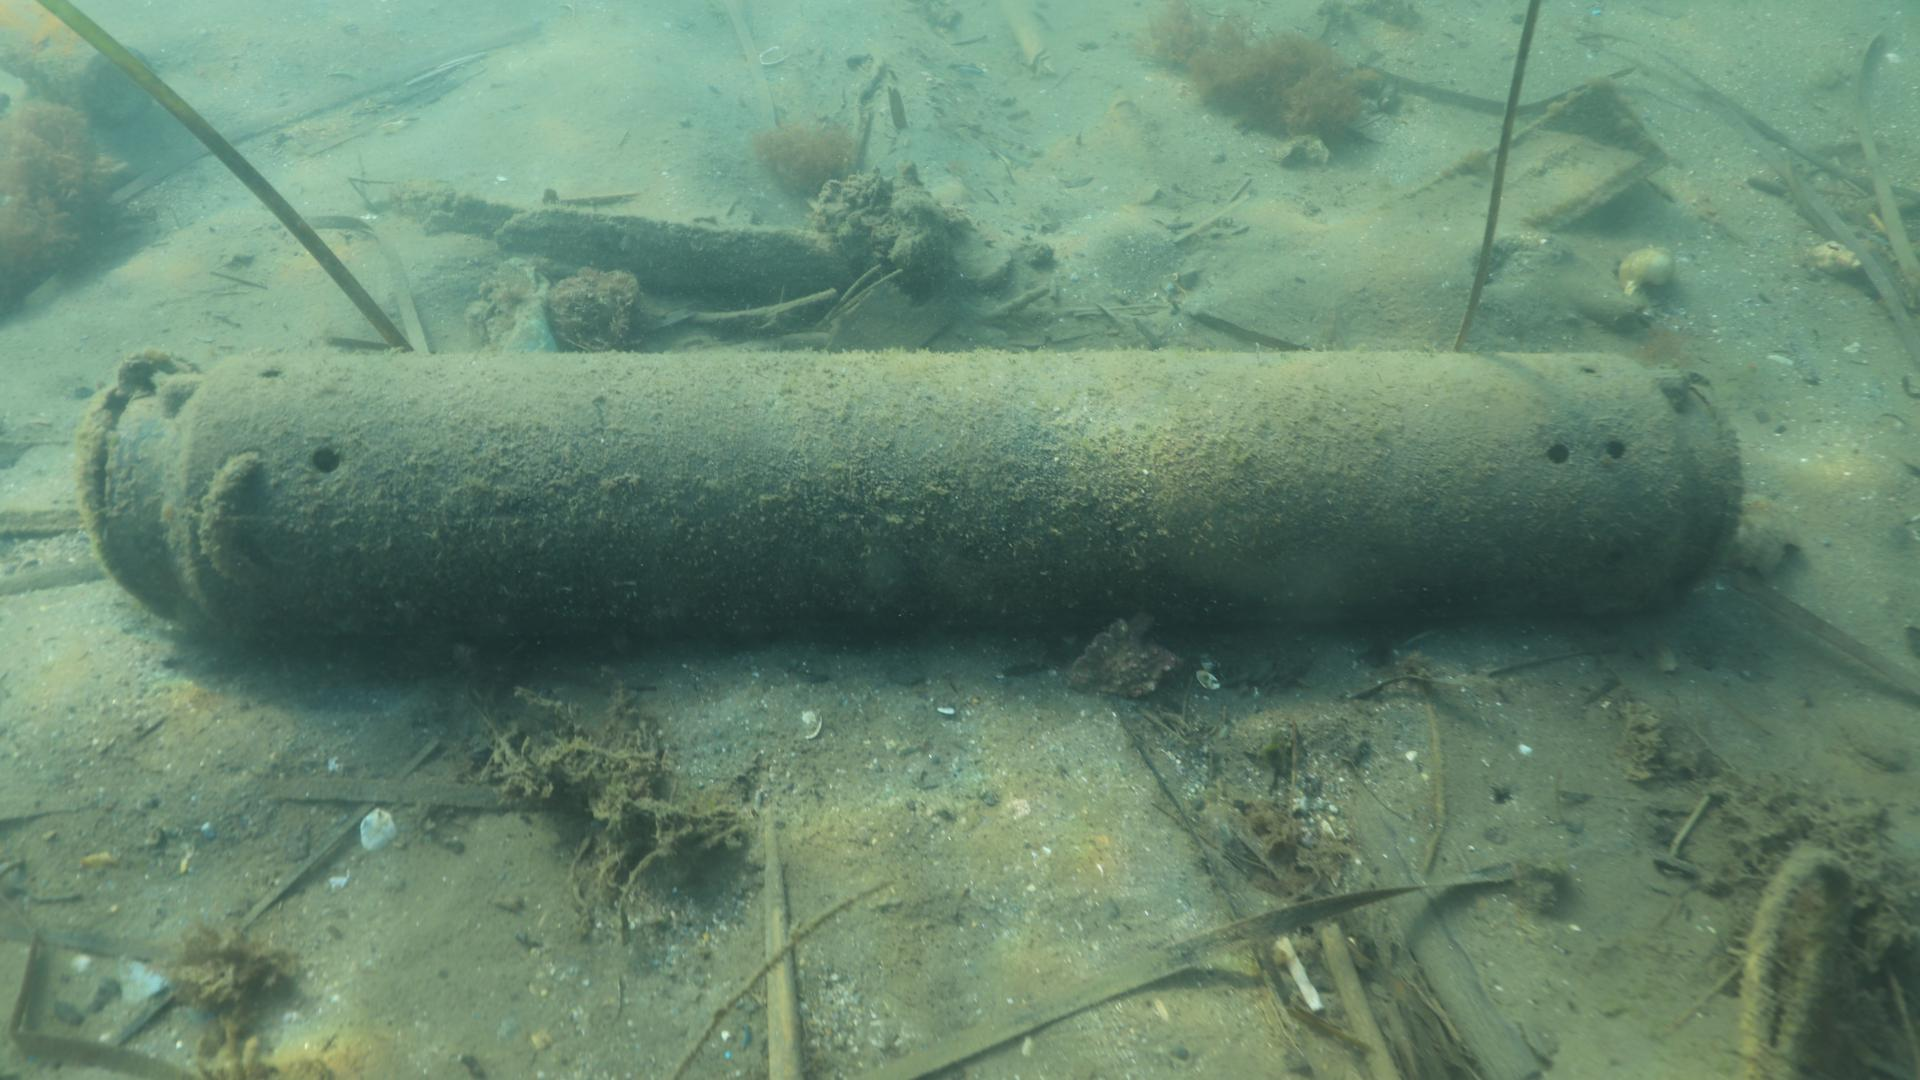eel fish trap: (75, 340, 1746, 663)
